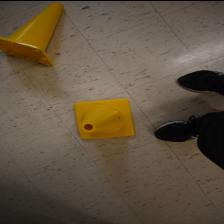cone: (0, 2, 64, 66), (74, 97, 134, 138)
